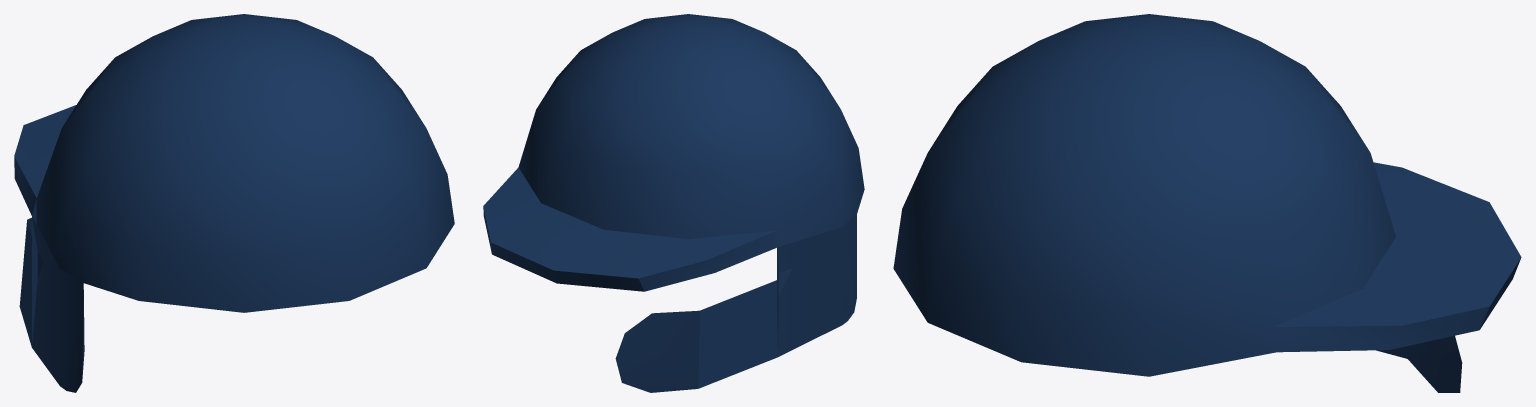
File: helmet.glb
3 renders of one model, left to right at view 1: azimuth 30°, elevation 25°; view 2: azimuth 150°, elevation 25°; view 3: azimuth 270°, elevation 25°, orthographic. The views are drawn at different scales.
Parts seen in each view (by area): view 1: helmet; view 2: helmet; view 3: helmet.
Boxes of the visible parts, x1,y1,x2,y2 form: helmet: (14,14,454,392); helmet: (483,14,864,392); helmet: (893,14,1521,392).
Bounding box in the file's own units: 0.4922 × 0.4225 × 0.6018.
